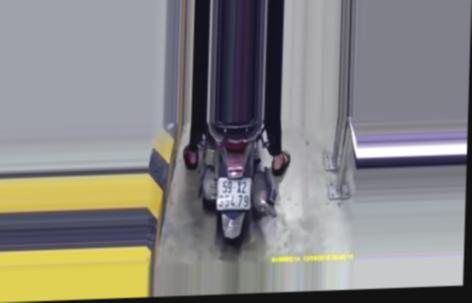License_Plate: (212, 174, 253, 213)
